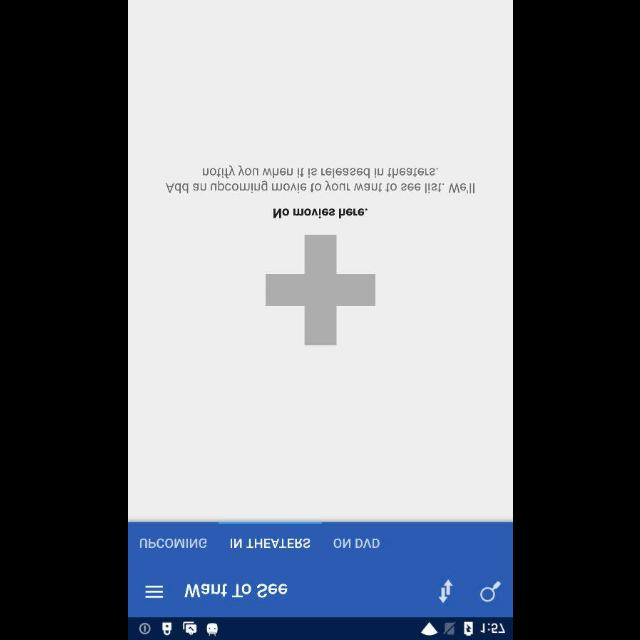icon: (264, 234, 376, 346), (478, 579, 500, 601), (438, 578, 452, 604), (144, 584, 164, 598)
text: (166, 165, 474, 193), (185, 583, 288, 597), (273, 208, 367, 218), (229, 538, 309, 548), (140, 538, 207, 548), (332, 538, 380, 548)
uppertaskbar: (128, 617, 512, 639)
